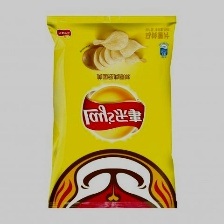snack: (36, 10, 184, 216)
